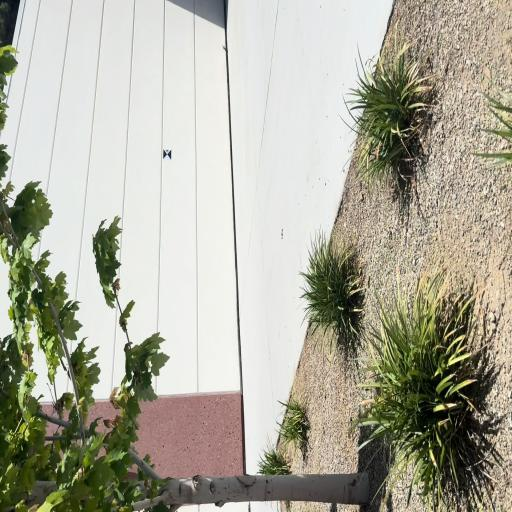target4: (163, 148, 172, 160)
